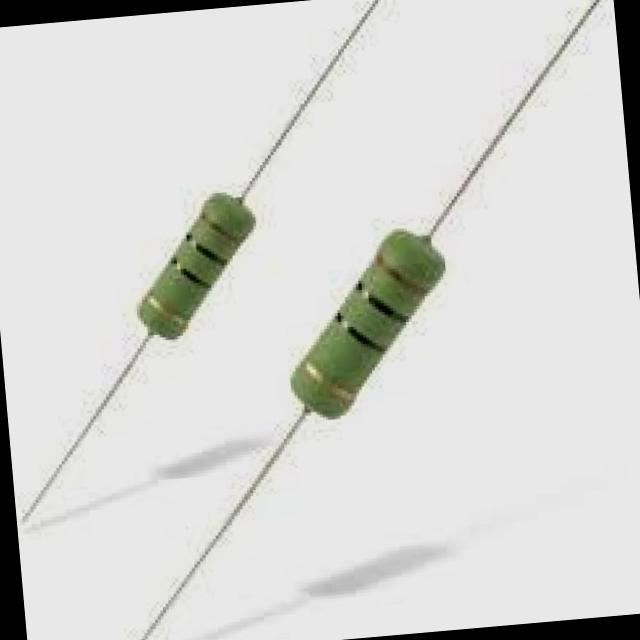Resistor: (293, 228, 445, 416), (139, 192, 255, 336)
black: (365, 295, 408, 332), (168, 258, 207, 291), (345, 328, 387, 358), (195, 243, 228, 265)
brown: (370, 252, 423, 299), (193, 216, 242, 252)
gold: (303, 361, 355, 403), (144, 296, 186, 329)
